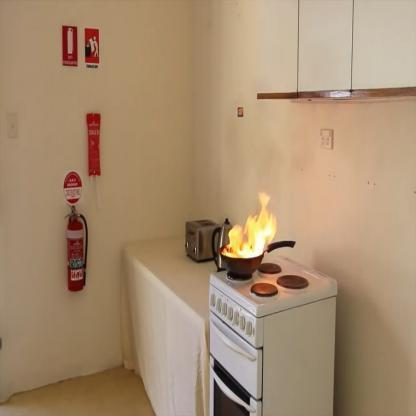Fire: (224, 191, 278, 262)
